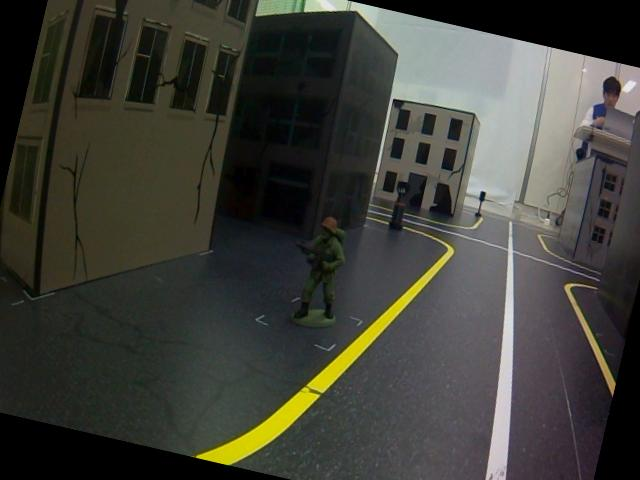Enemy: (274, 206, 362, 340)
Missile: (383, 176, 416, 236)
